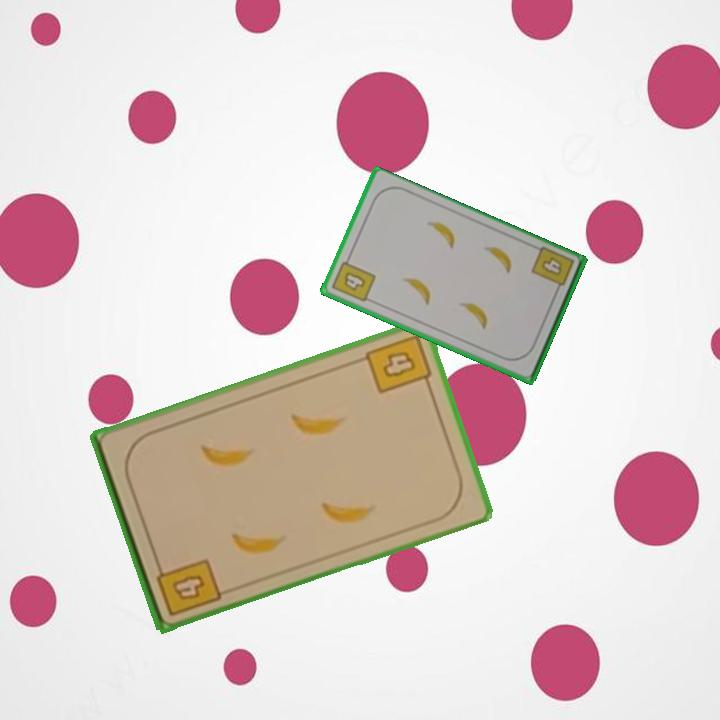4b: (362, 330, 435, 397), (152, 555, 224, 619), (328, 252, 379, 305), (528, 243, 577, 297)
